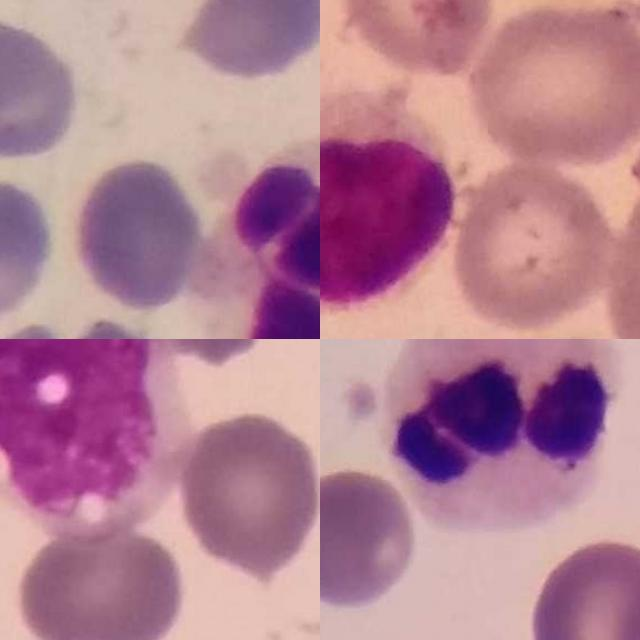Lymphocyte: (320, 87, 466, 313)
Monocyte: (0, 339, 192, 541)
Neutrophil: (385, 339, 617, 527), (198, 135, 320, 339)
